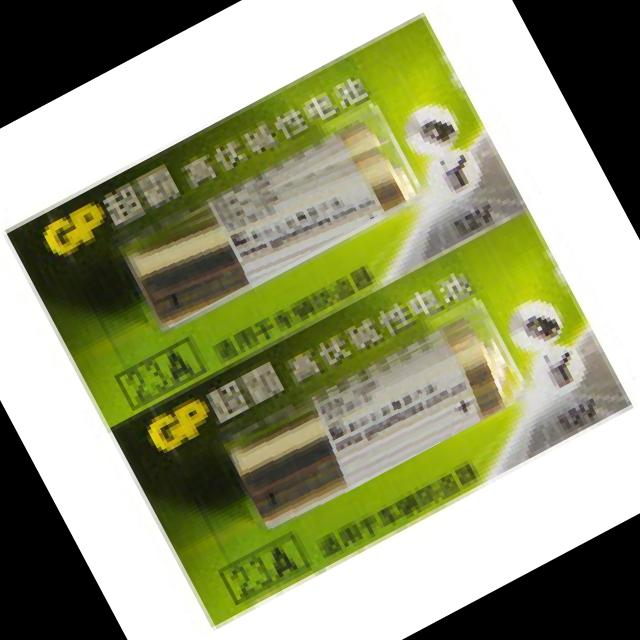Hazard: (222, 307, 524, 532), (119, 113, 419, 330)
